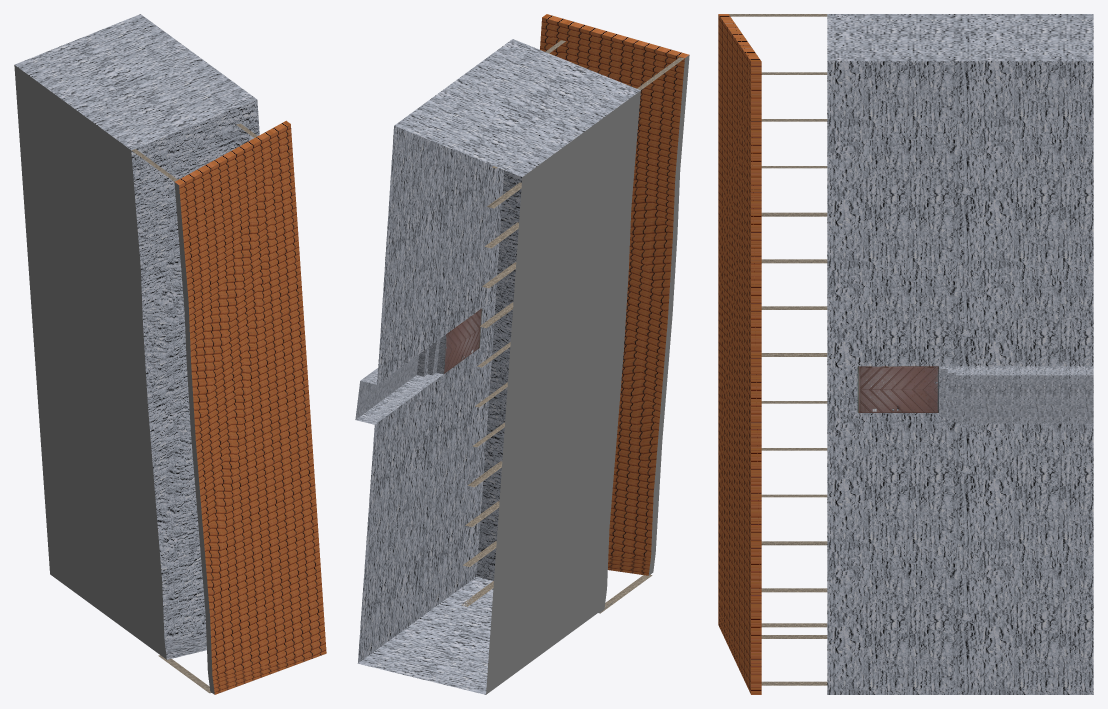
File: Uus_29_2-origo.obj
3 renders of one model, left to right at view 1: azimuth 30°, elevation 25°; view 2: azimuth 150°, elevation 25°; view 3: azimuth 270°, elevation 25°, orthographic. The views are drawn at different scales.
Visible parts, largest first — view 1: uus29_2, xxx; view 2: uus29_2, xxx; view 3: uus29_2.
Boxes of the visible parts, x1,y1,x2,y2 form: uus29_2: (15,14,326,694); xxx: (14,65,214,694); uus29_2: (355,14,689,694); xxx: (486,55,689,694); uus29_2: (718,14,1093,694).
Bounding box in the file's own units: 4.31 × 13.5 × 7.49.
